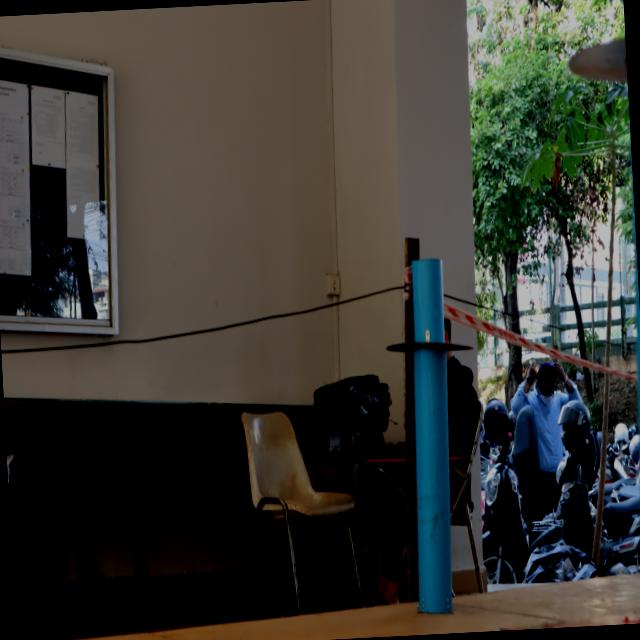pole: (369, 245, 481, 411)
